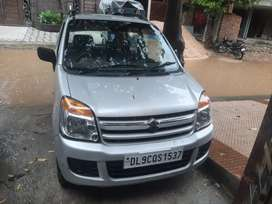DL9C0S1537: (123, 148, 183, 169)
